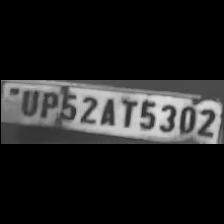0: (176, 102, 196, 134)
2: (76, 93, 98, 125), (194, 105, 216, 137)
3: (156, 101, 176, 133)
5: (135, 97, 157, 130), (56, 88, 76, 124)
A: (96, 95, 116, 127)
P: (36, 88, 56, 118)
T: (118, 96, 136, 128)
U: (16, 88, 38, 116)
